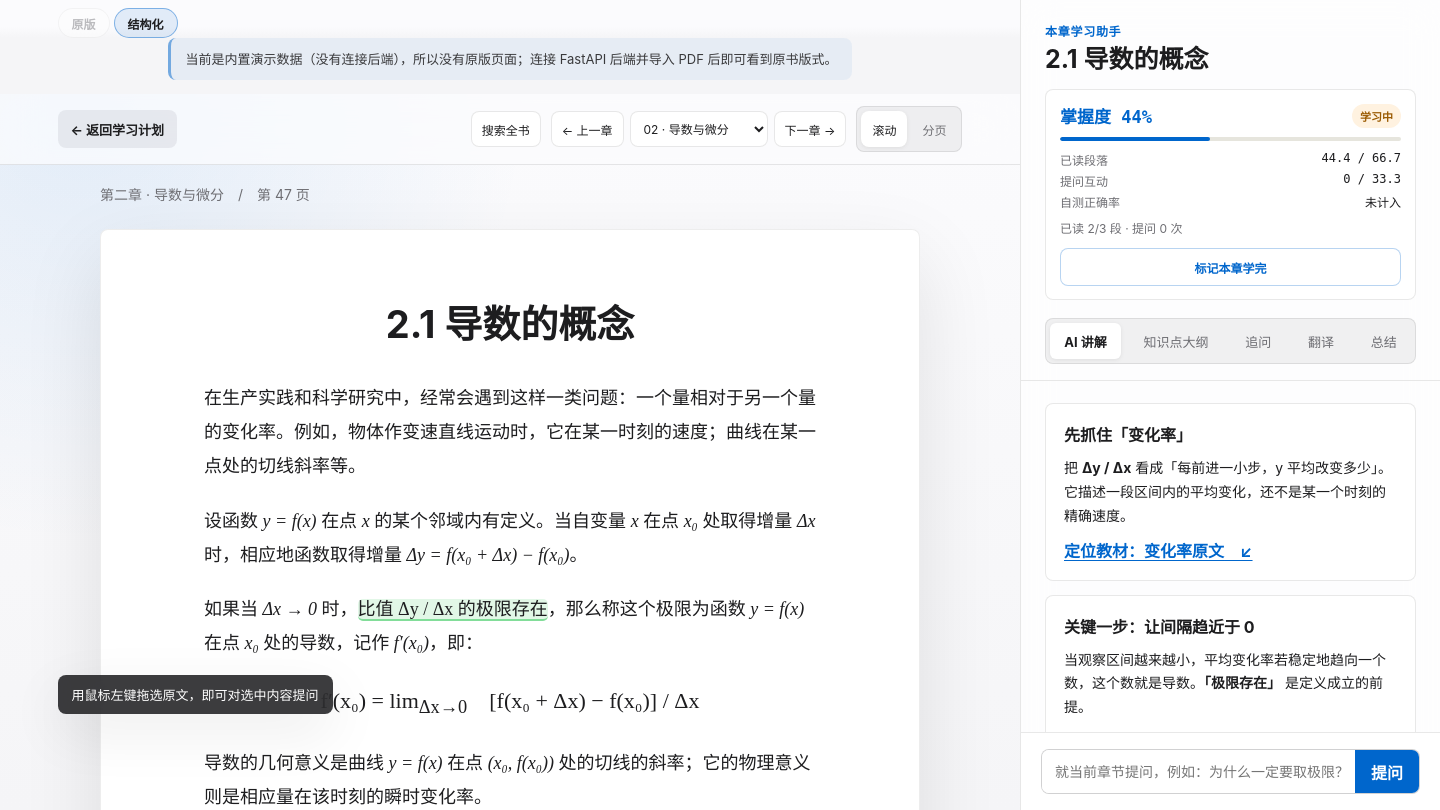
Test: 全书搜索 › 输入关键词后列出命中，标明章节与页码
Expected: the element with test id "paper" is shown, [100,229,920,809]
Click the button with test id "search-toggle".
click(506, 129)  # box [471,111,541,147]
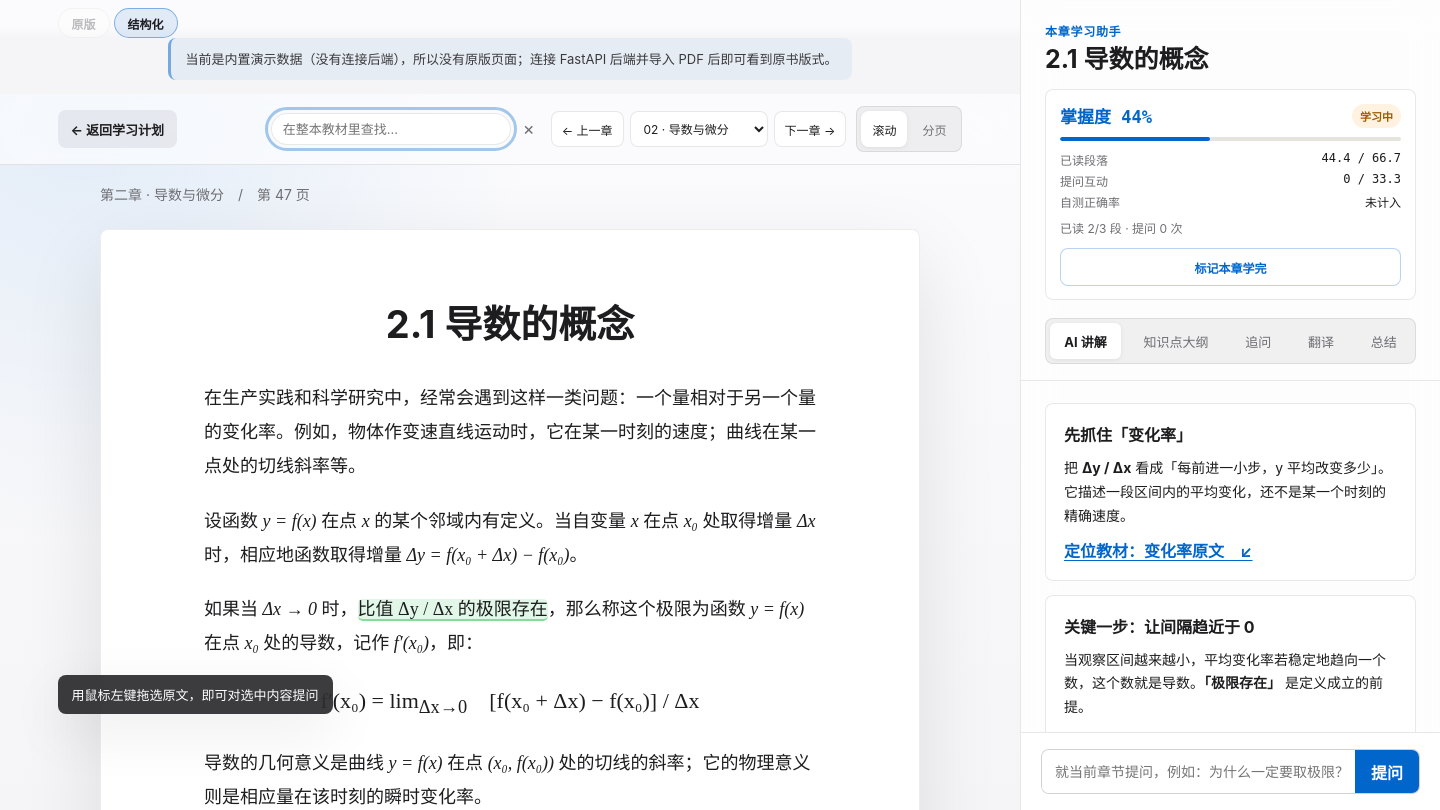
Type "变化率" into the field named "搜索整本教材".
click(391, 129); type("变化率")  # box [271,113,511,145]
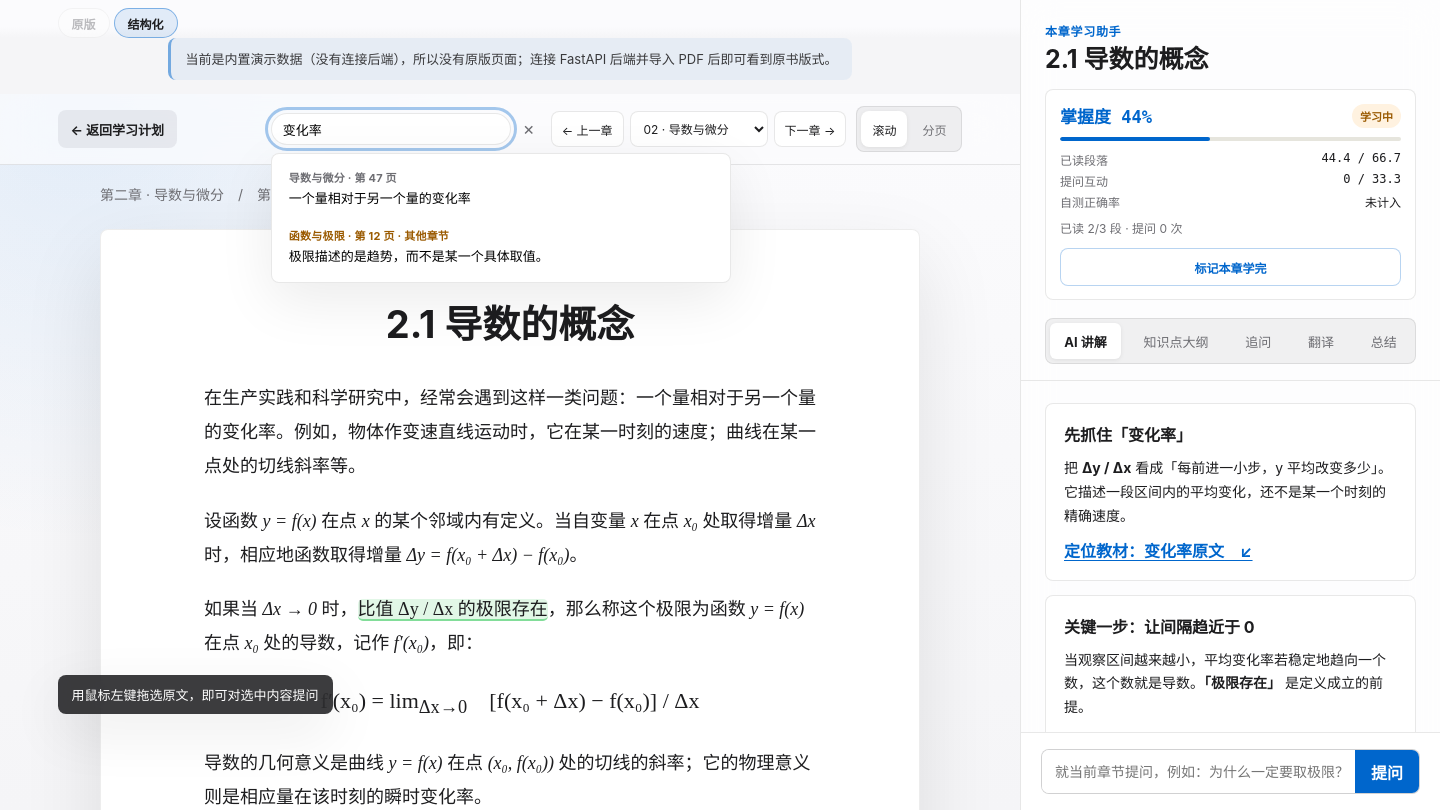
Expected: the button with test id "search-hit-source-rate" shows "导数与微分", [278,160,724,218]
Expected: the button with test id "search-hit-source-rate" shows "第 47 页", [278,160,724,218]
